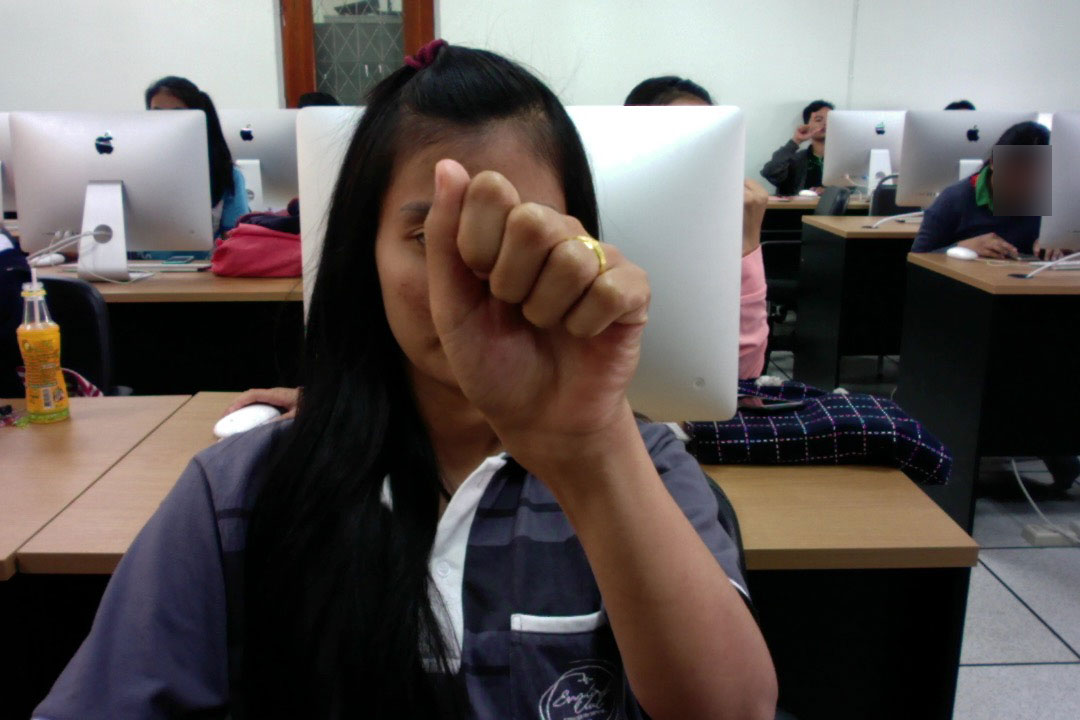or: (412, 151, 660, 475)
